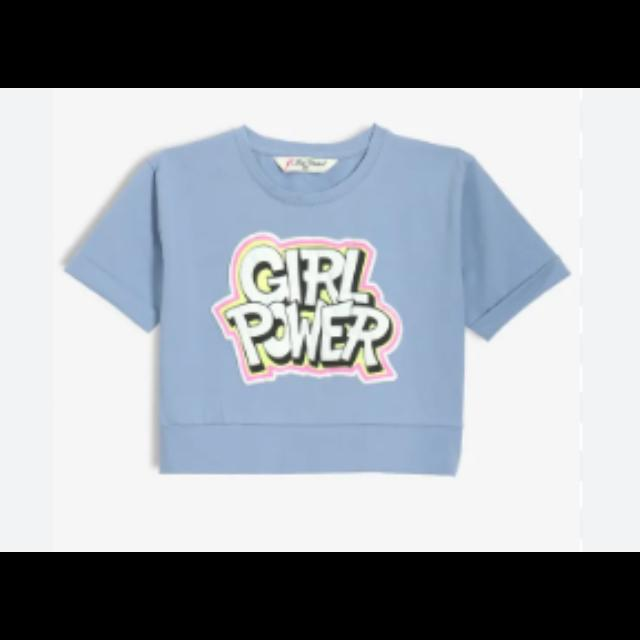top: (68, 130, 568, 468)
